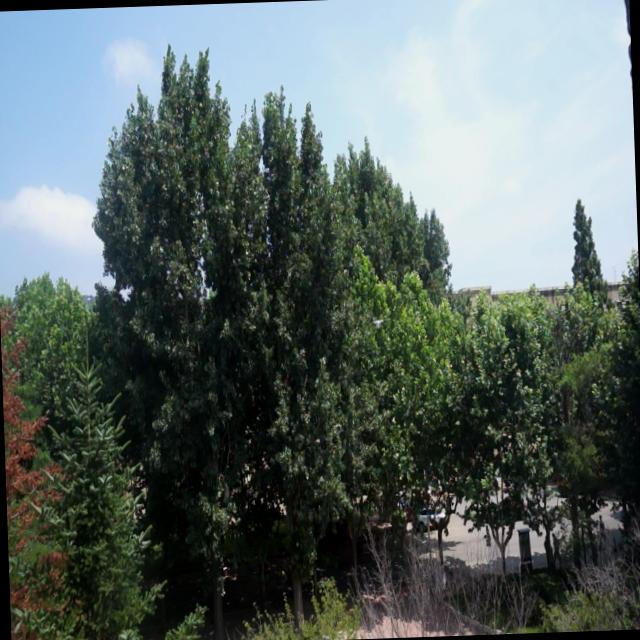drone: (366, 310, 388, 332)
